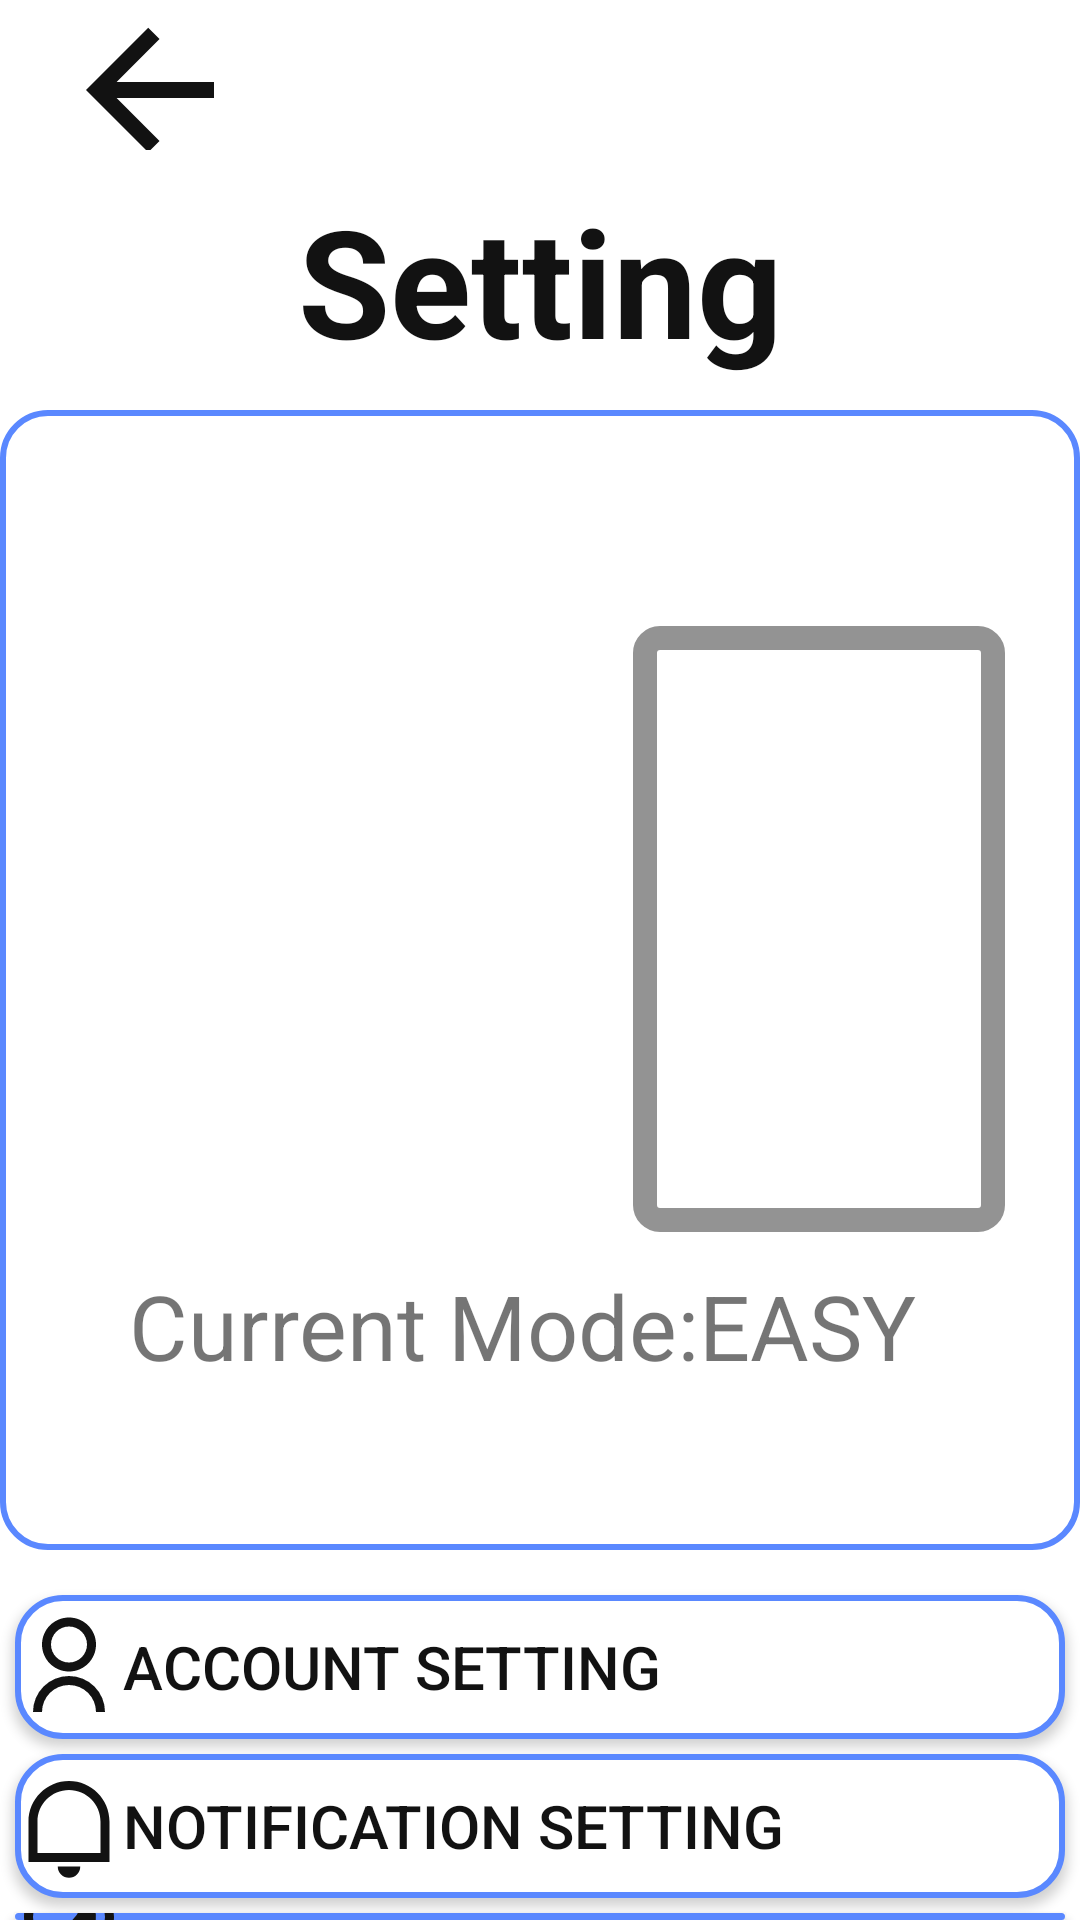

Icons on this 1080px x 1920px Android screen, each with the point to tap as [x,y]:
arrow left line: [150,89]
